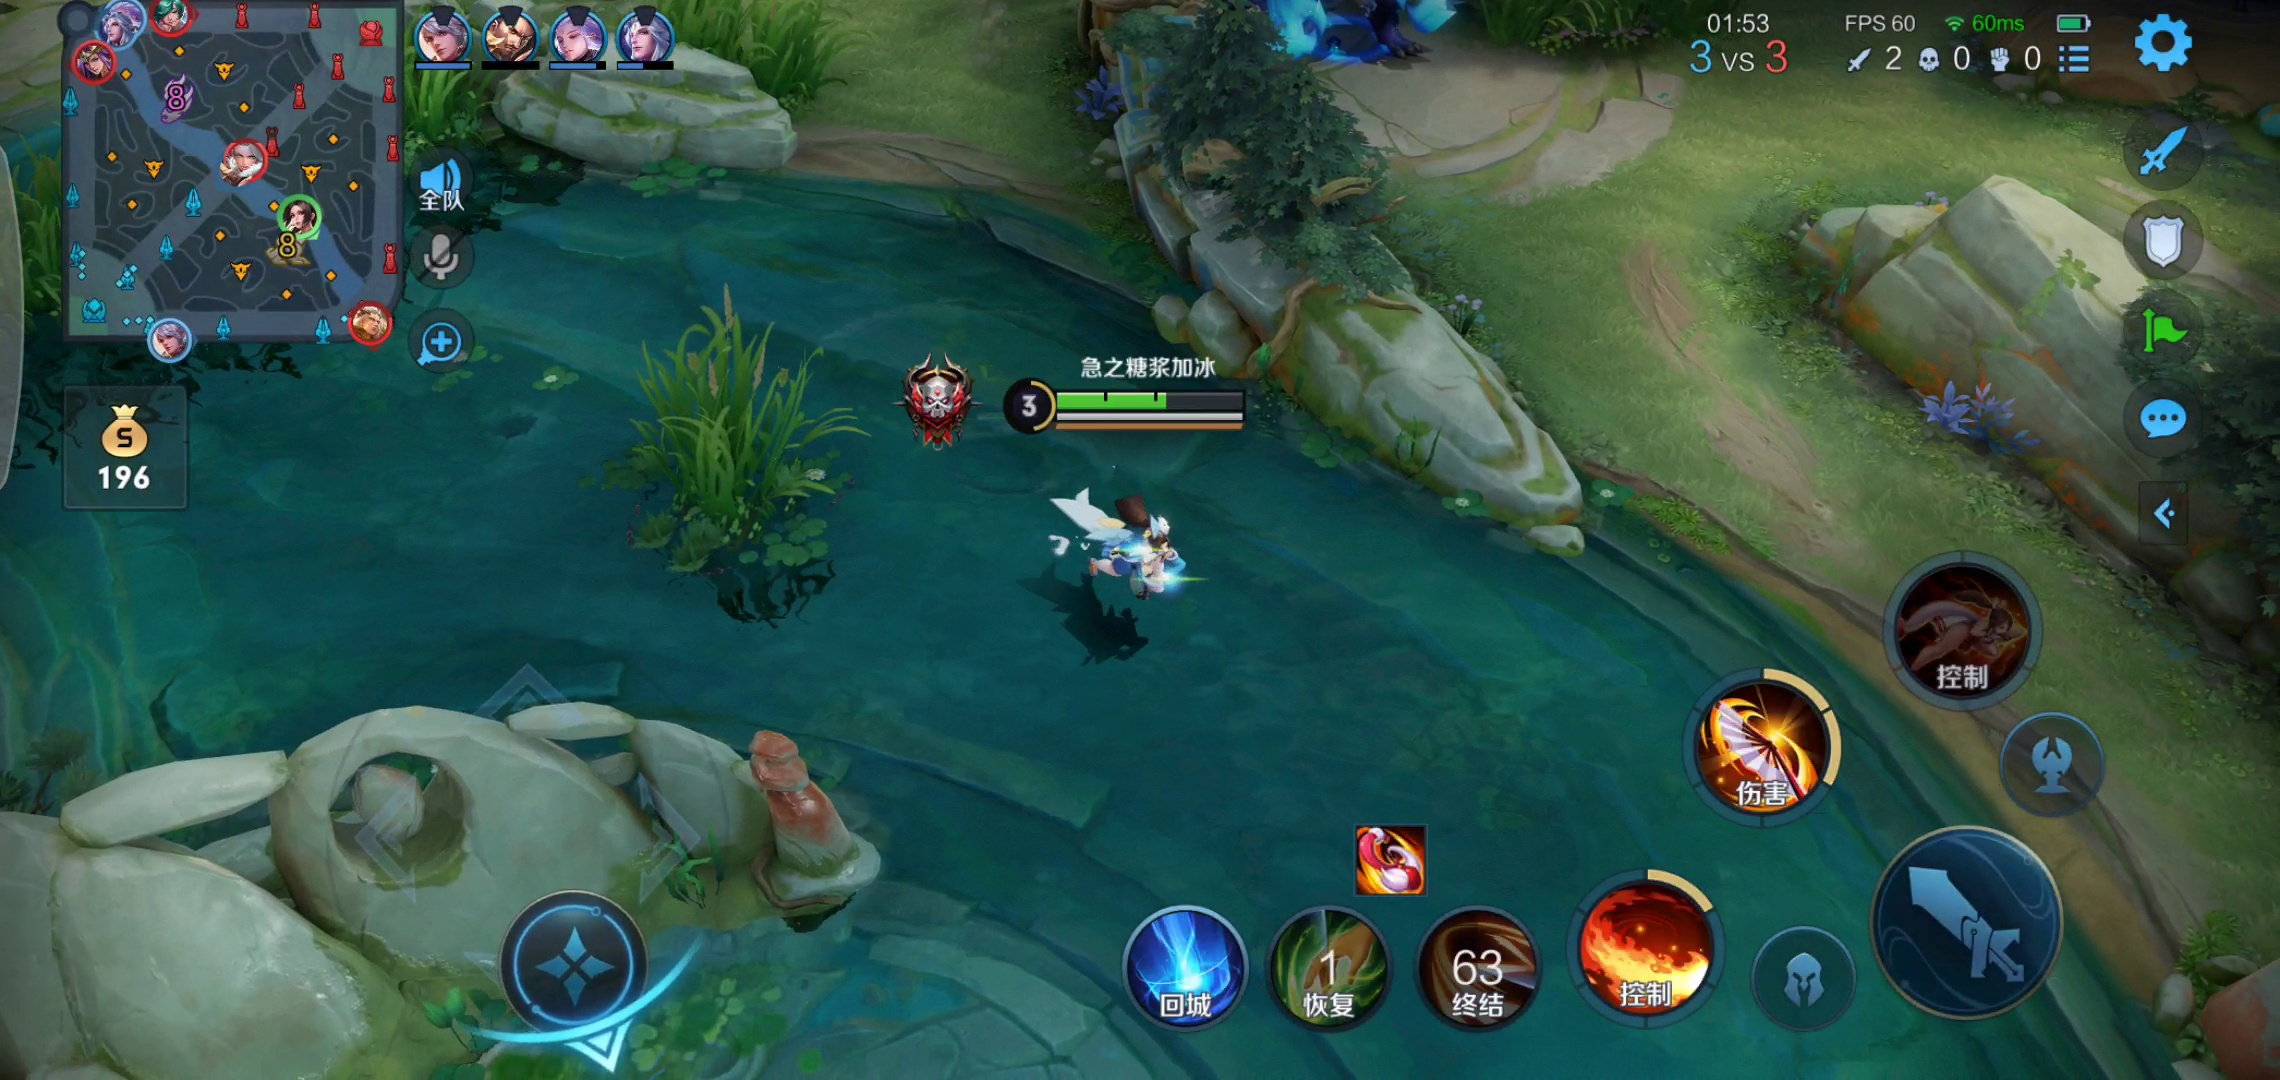buff: (1277, 1, 1442, 78)
grass: (627, 317, 840, 577), (659, 4, 874, 148)
hero: (1025, 456, 1217, 653)
